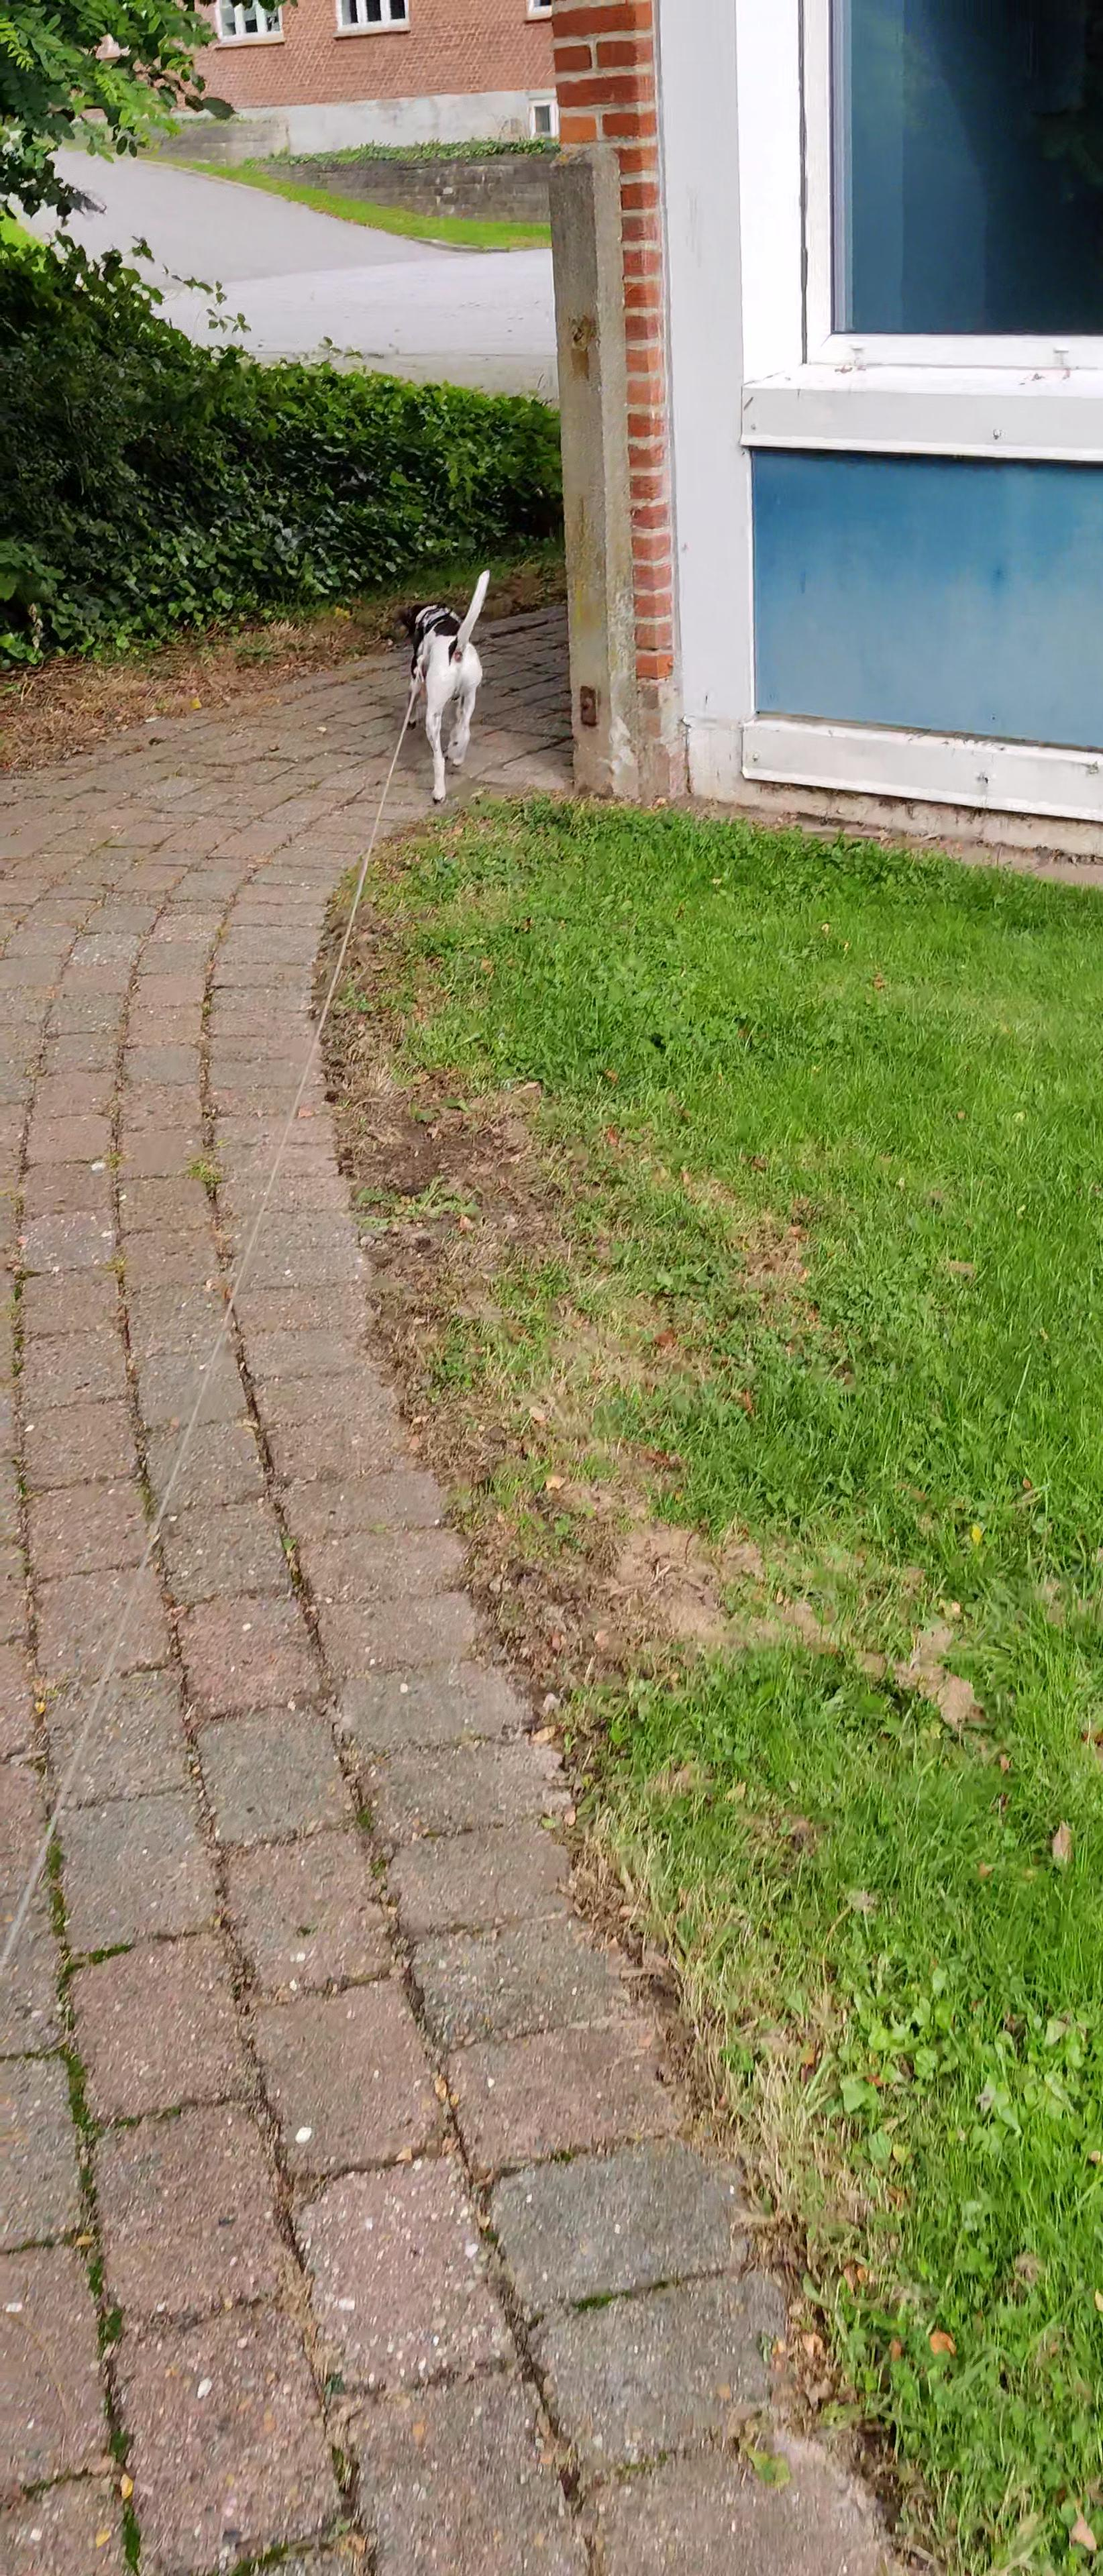Dog: (388, 563, 496, 810)
